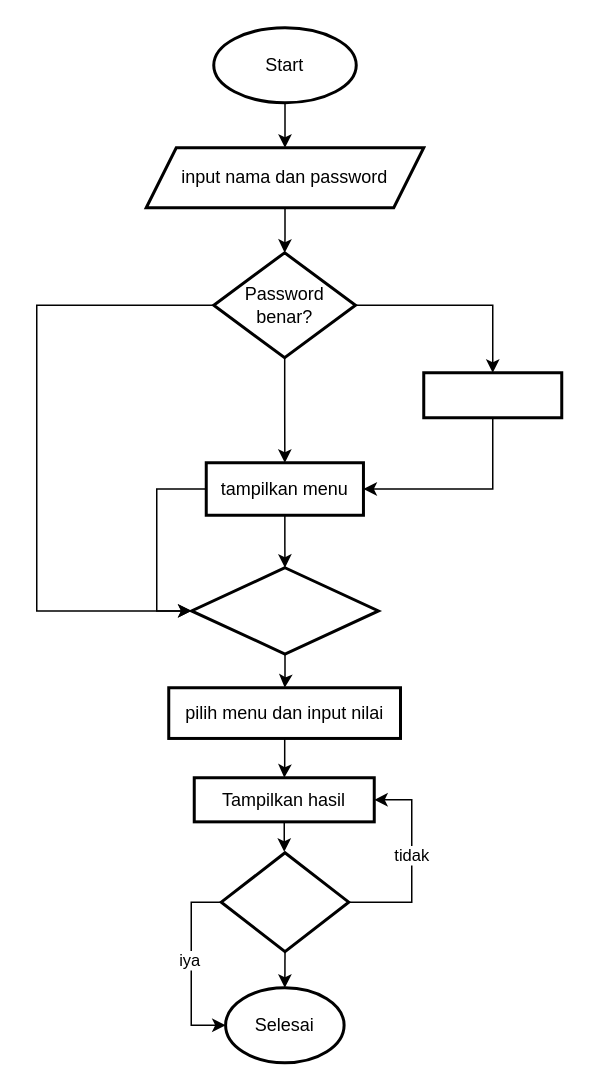
The diagram is 590 pixels wide and 1089 high, and some of its shapes have lost their labels. Each missing label, with the centre of its shape:
kesempatan = 0?: the point at 284,610
kesempatana: the point at 492,394
pilih kelur?: the point at 284,901
